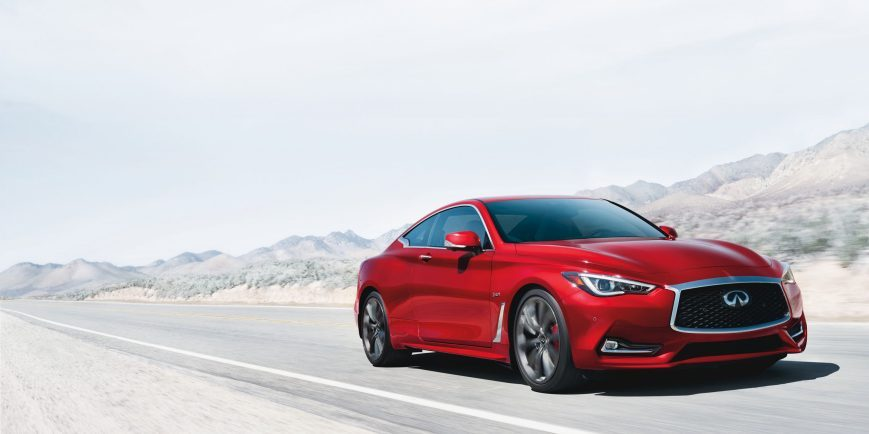car: (325, 178, 822, 412)
